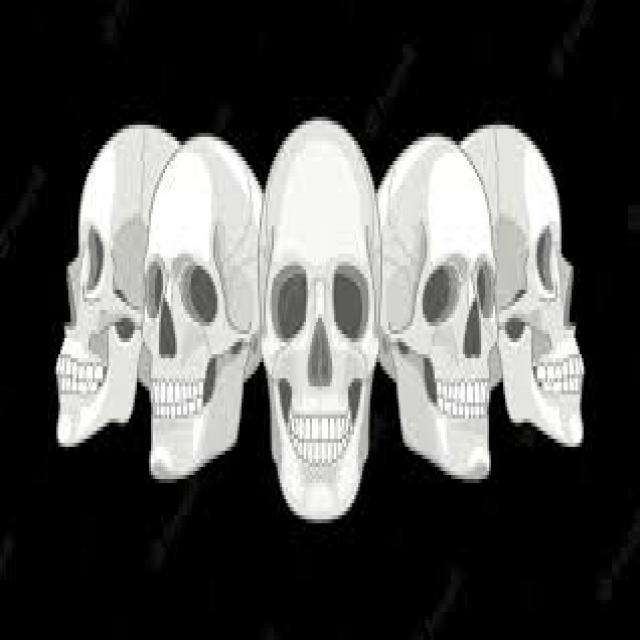skull: (256, 91, 388, 535)
